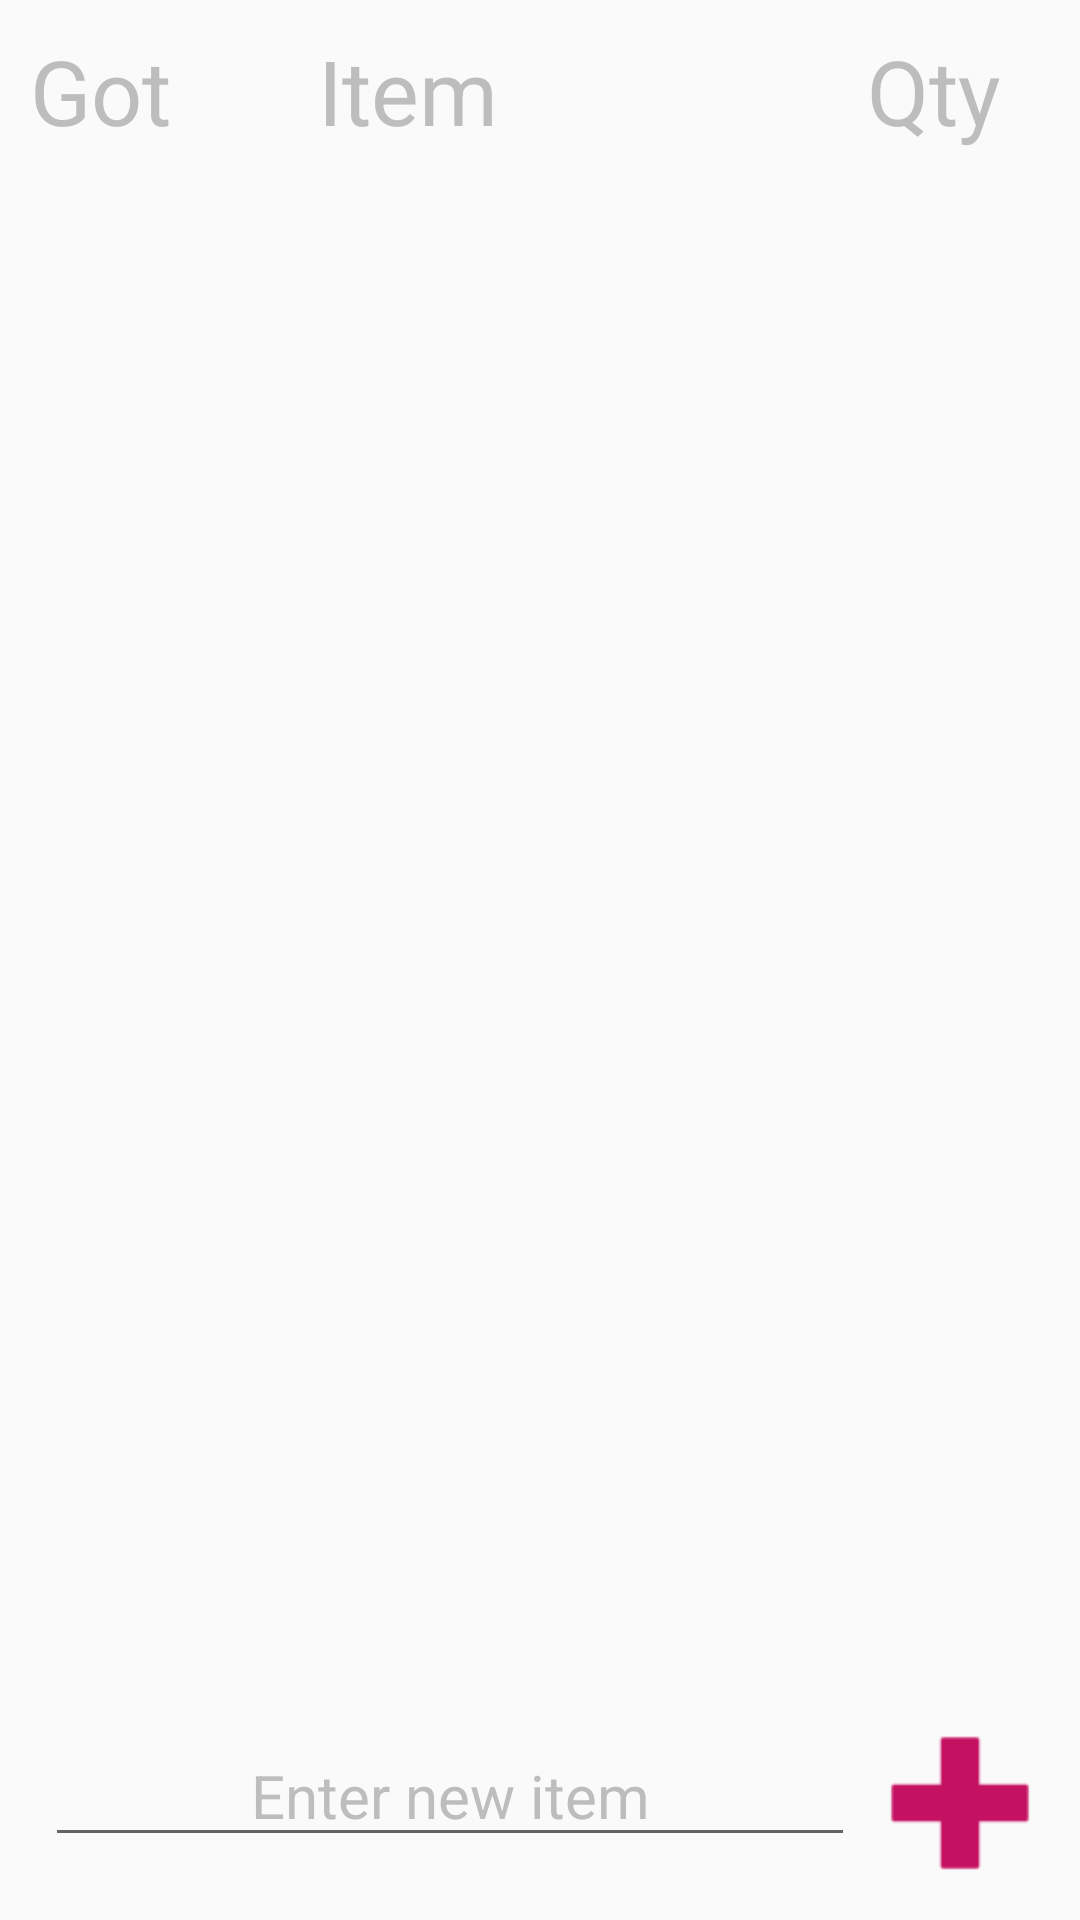

Locate icon controls on the screen. Image size 1080px×1920px, boxes as bbox(x1, y1, x2, y2).
add: bbox(890, 1736, 1030, 1870)
